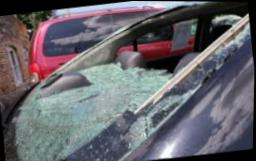Windshield: (2, 1, 251, 161)
